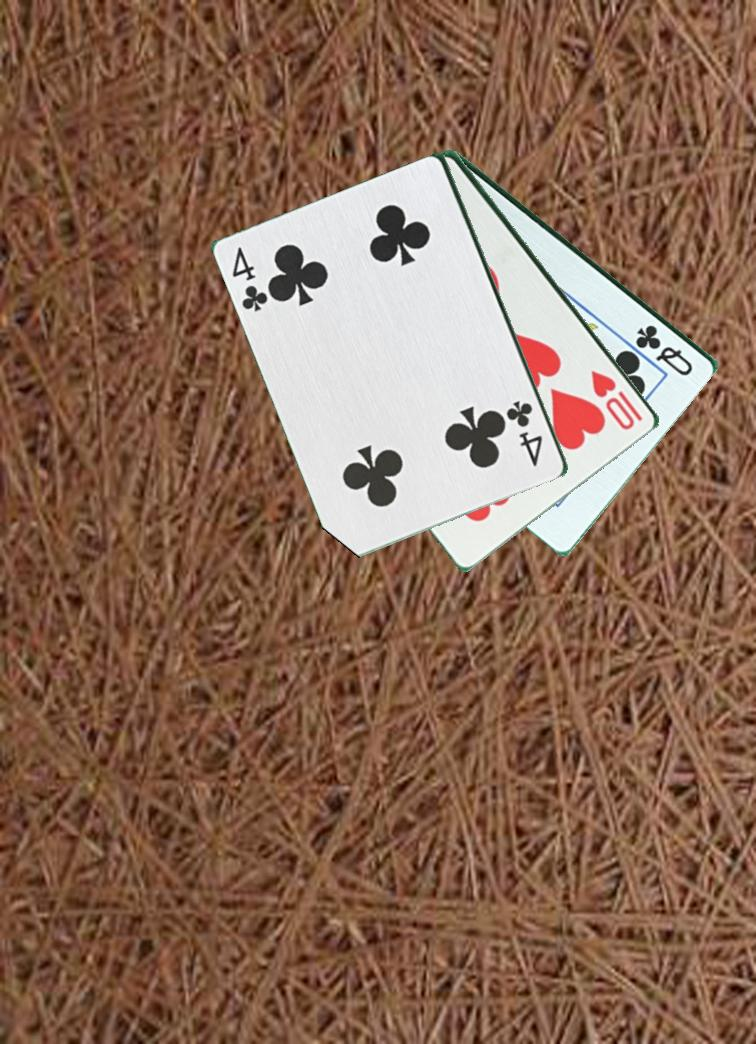4c: (505, 393, 547, 470), (229, 244, 272, 315)
qc: (633, 321, 697, 379)
th: (587, 366, 647, 434)
